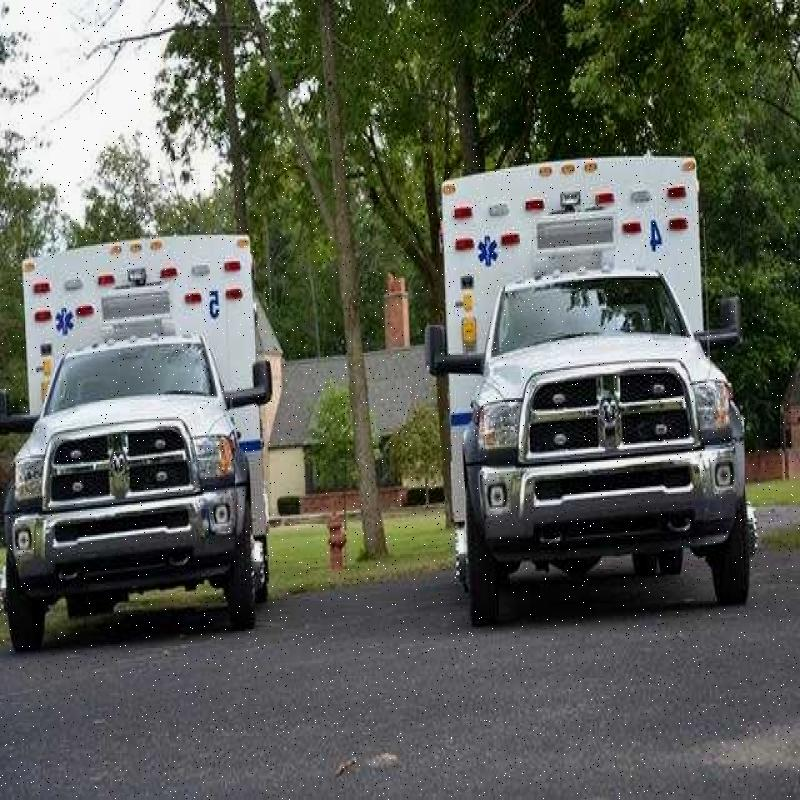AmbulanceSiren: (434, 159, 703, 274)
